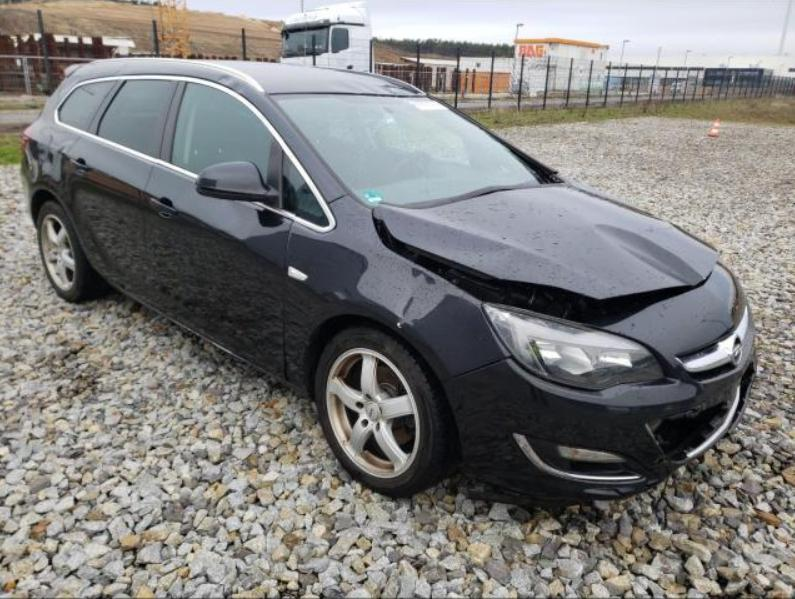Back-door: (62, 74, 178, 297)
Back-wheel: (36, 201, 105, 302)
Back-window: (98, 81, 171, 154), (53, 75, 120, 134)
Fender: (287, 192, 508, 386)
Front-bumper: (442, 264, 757, 501)
Front-door: (143, 75, 335, 375)
Front-wheel: (314, 328, 457, 499)
Front-window: (171, 83, 279, 189), (282, 154, 328, 225)
Headlight: (482, 301, 666, 391)
Hood: (372, 182, 719, 300)
Mirror: (197, 162, 278, 204)
Quarter-panel: (20, 118, 107, 278)
Rocker-panel: (106, 274, 306, 393)
Roof: (94, 57, 424, 94)
Trunk: (64, 63, 85, 77)
Windshield: (266, 93, 553, 207)
